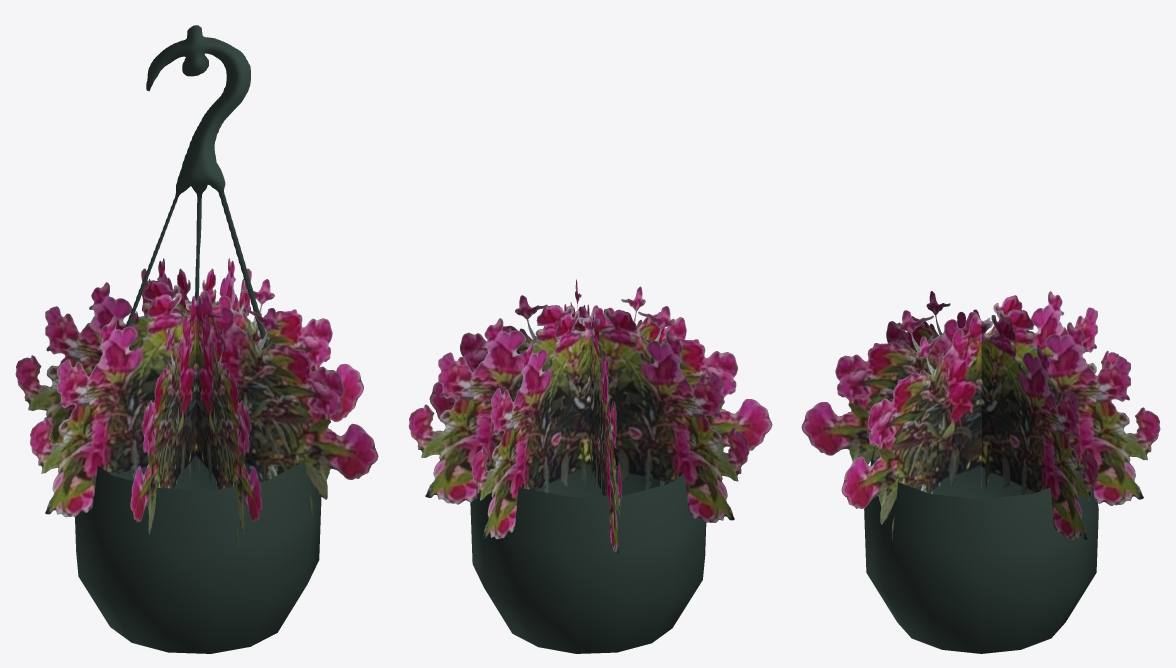
File: Pot.fbx
The picture shows the model from 3 angles, left to right: view 1: azimuth 30°, elevation 25°; view 2: azimuth 150°, elevation 25°; view 3: azimuth 270°, elevation 25°; orthographic projection. The views are drawn at different scales.
Visible parts, largest first — view 1: Cylinder001; view 2: Cylinder001; view 3: Cylinder001.
Part boxes in pixels (left/top/right/bottom): Cylinder001: left=15, top=25, right=378, bottom=653; Cylinder001: left=408, top=279, right=772, bottom=653; Cylinder001: left=801, top=291, right=1160, bottom=653.
Bounding box in the file's own units: 0.6778 × 1.15 × 0.6675.
Materials: 1 (1 with a texture image).
